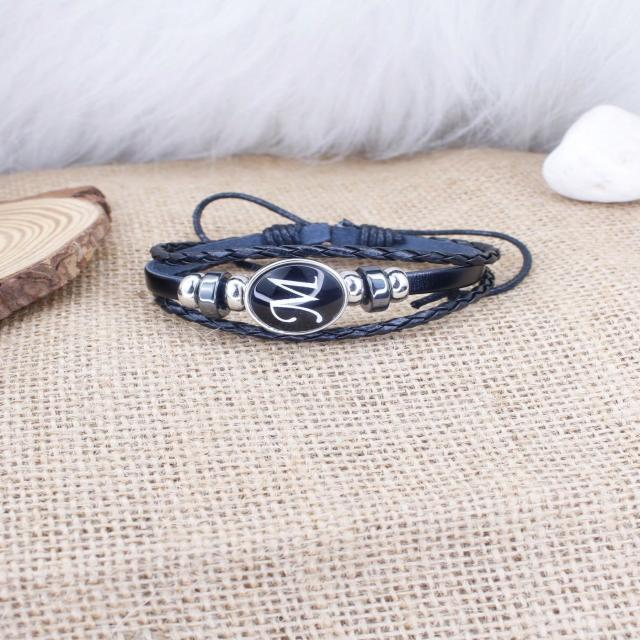bracelet: (99, 163, 575, 380)
